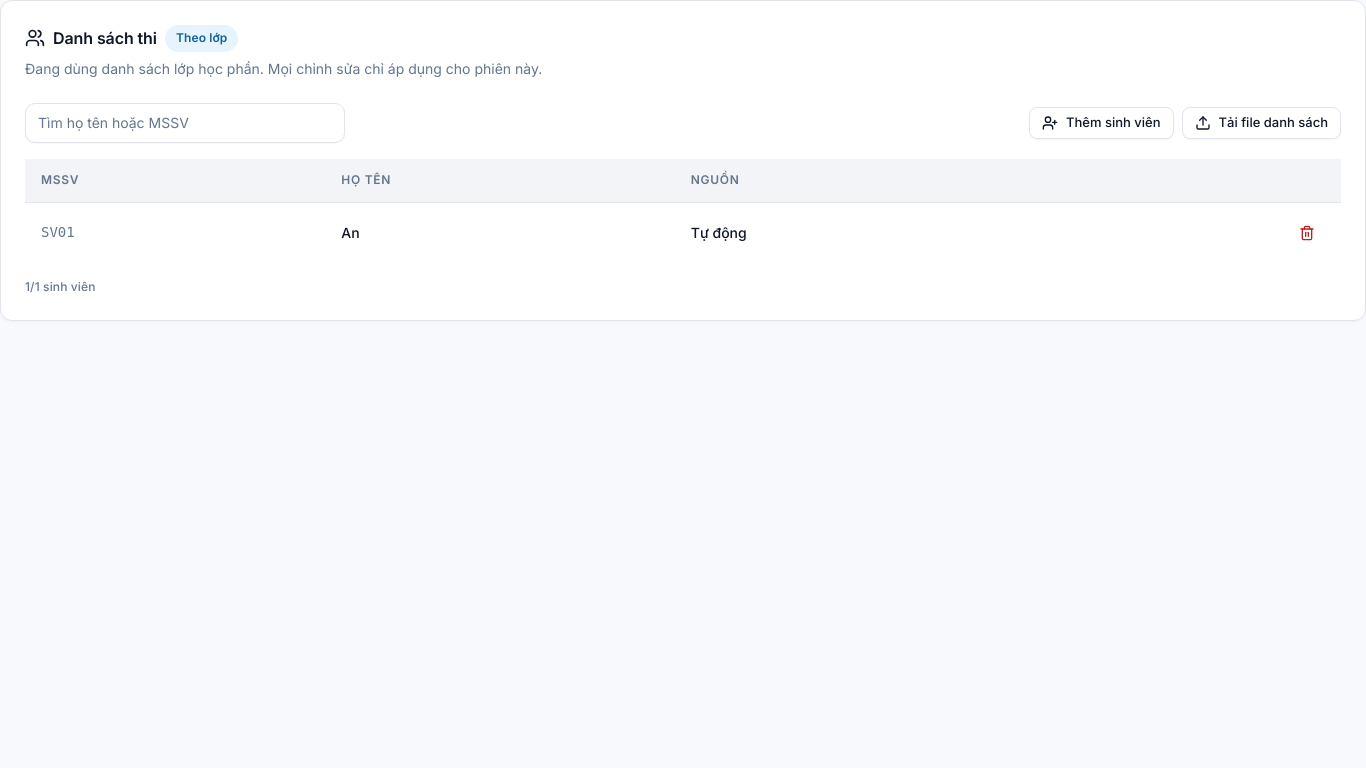
Scenario: SessionExamRosterCard › dialog tải file rộng, có cuộn và footer cố định
Click the button "Tải file danh sách" at (1261, 123), box [1182,107,1341,139]
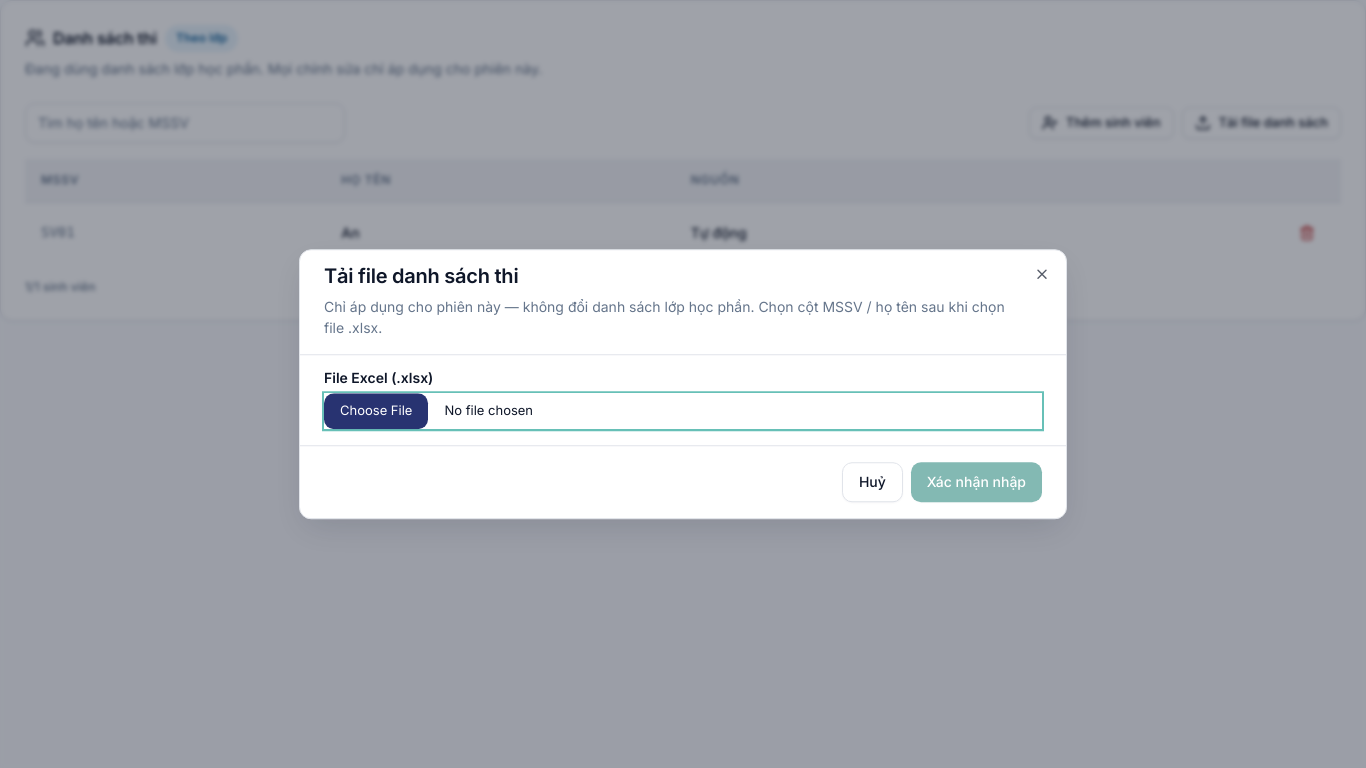
Now the heading "Tải file danh sách thi" is shown, box [324,264,518,288]
Now the text "không đổi danh sách lớp học phần" is shown, box [324,298,1005,336]
Now the file field labelled "File Excel (.xlsx)" is shown, box [324,393,1042,429]
